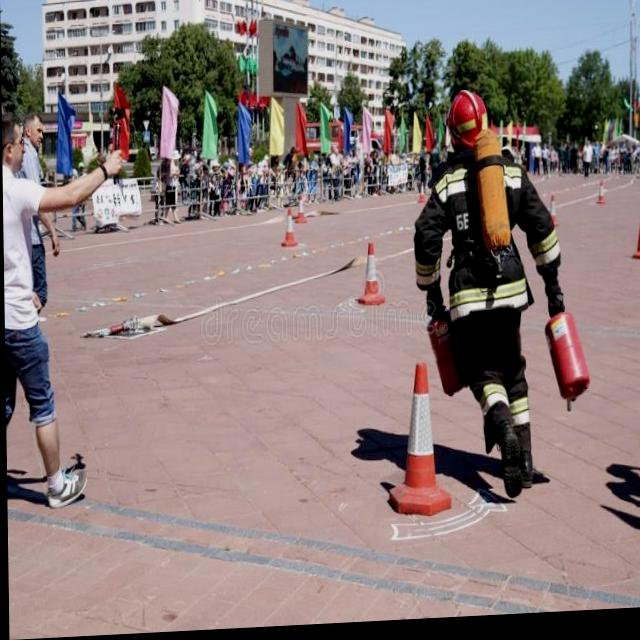FireExtinguisher: (537, 308, 593, 417), (420, 306, 479, 404)
